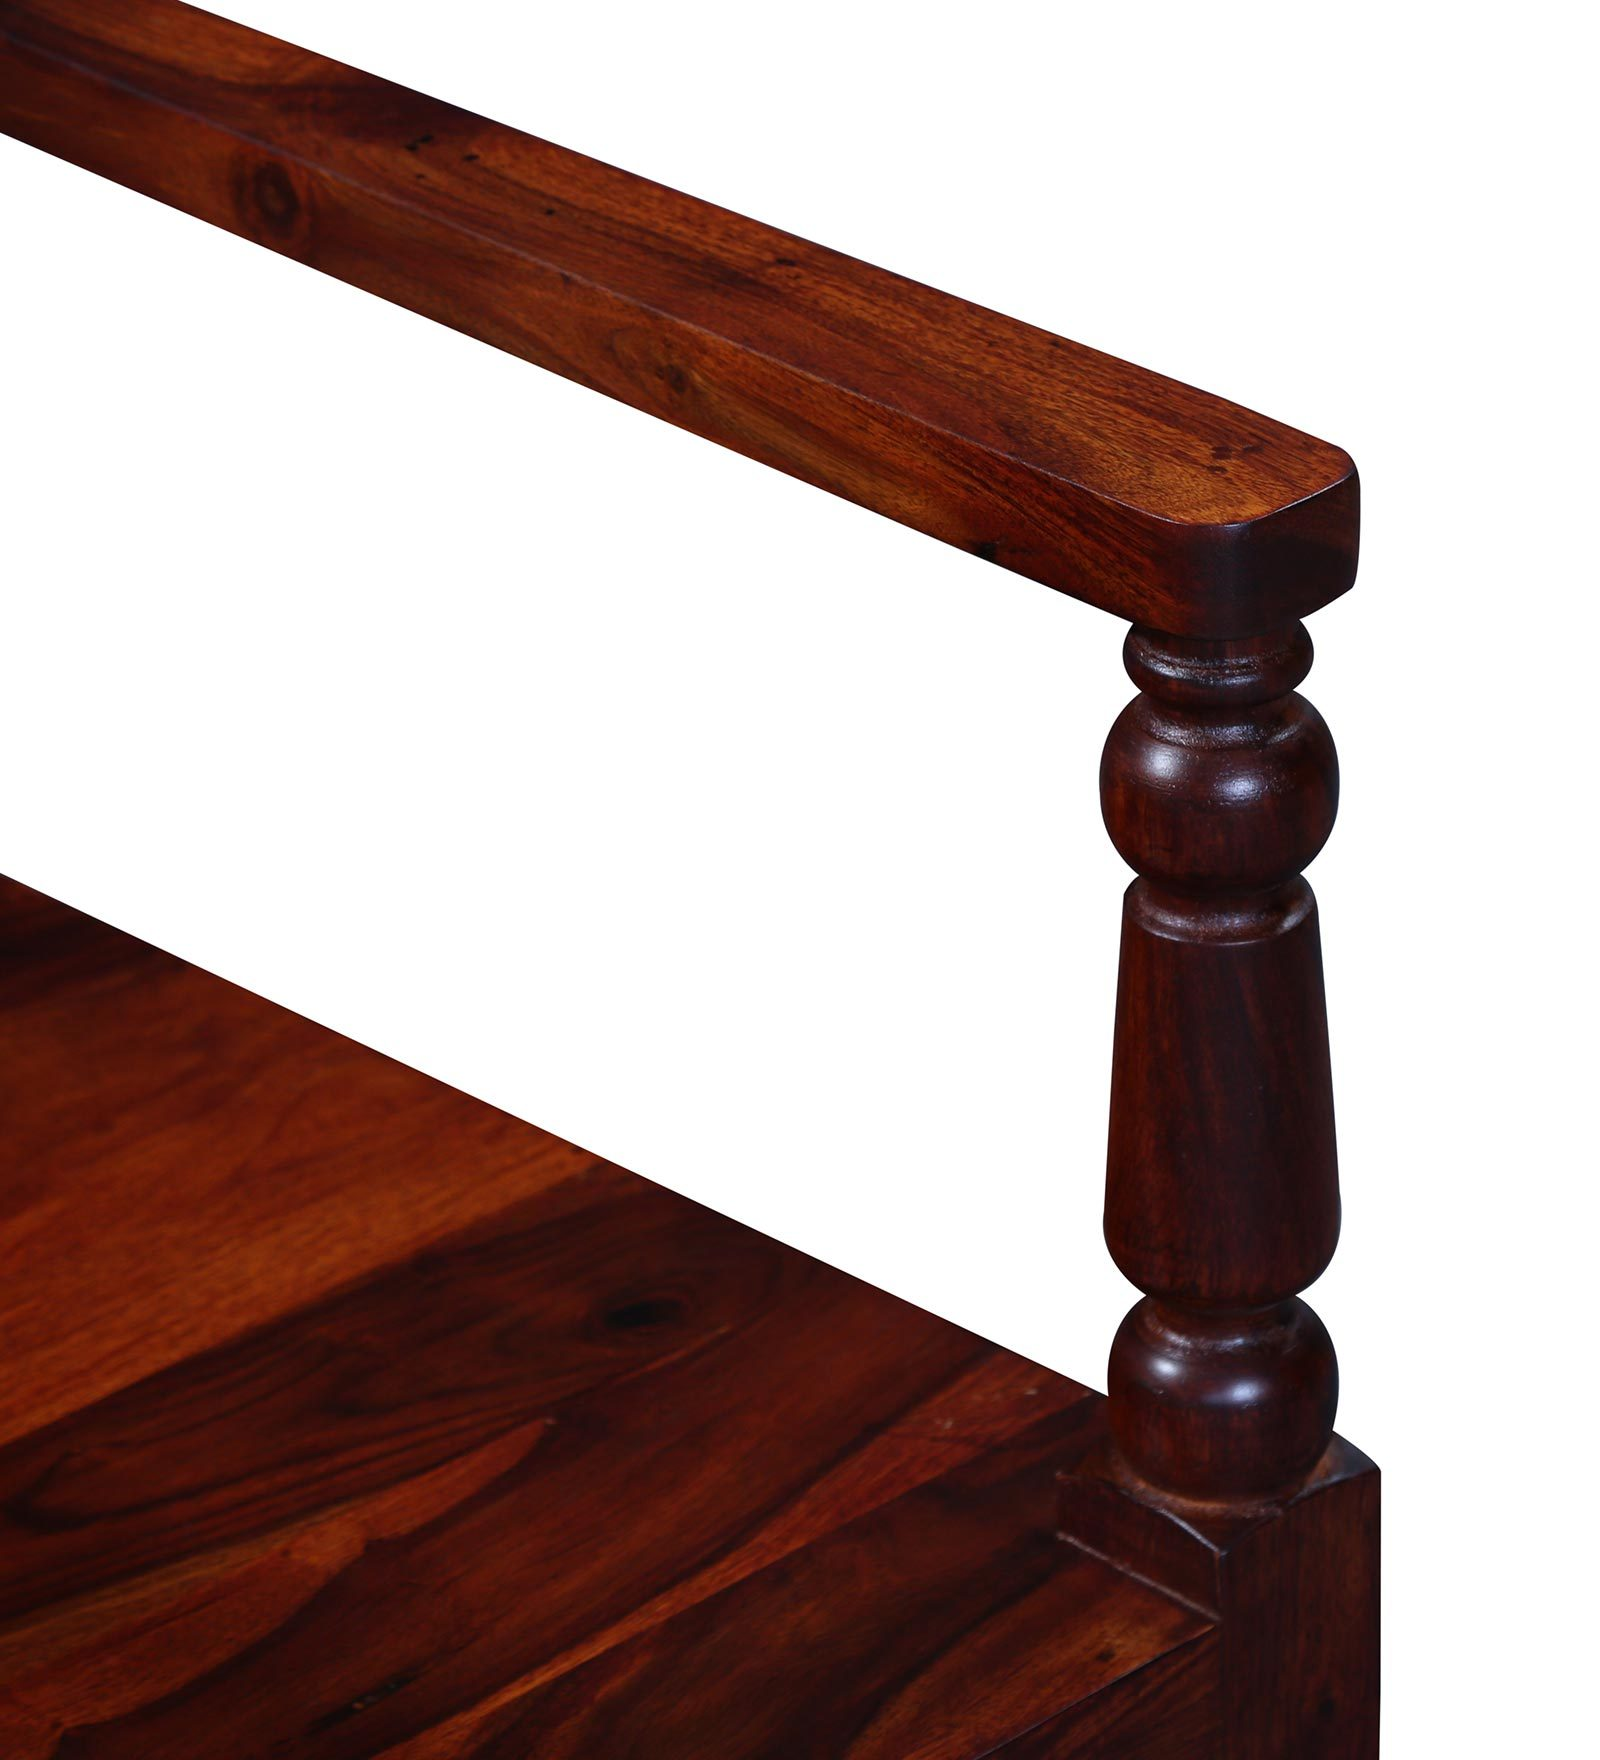Harleston Arm Chair in Honey Oak Finish by Amberville: (5, 5, 1418, 1760)
